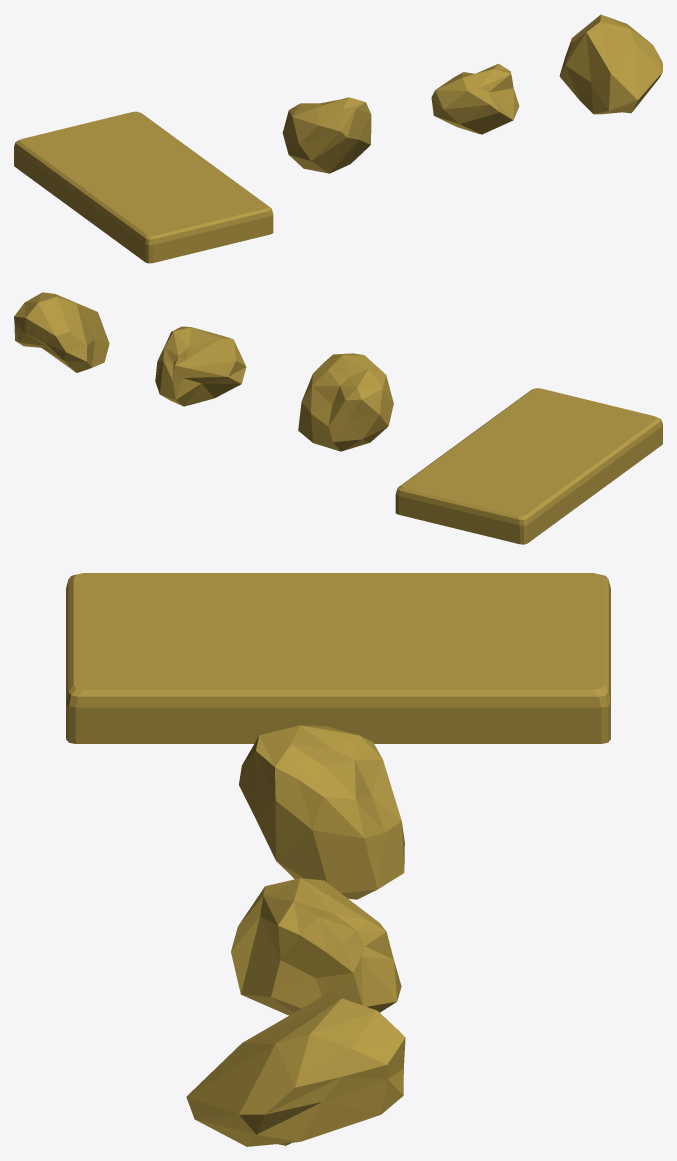
The model's file is Ostrander_Gold_Assests.fbx.
The picture shows the model from 3 angles, top to bottom: view 1: azimuth 30°, elevation 25°; view 2: azimuth 150°, elevation 25°; view 3: azimuth 270°, elevation 25°; orthographic projection. The views are drawn at different scales.
Visible parts, largest first — view 1: Gold bar, Gold_Nugget2, Gold_Nugget3, Gold_Nugget; view 2: Gold bar, Gold_Nugget3, Gold_Nugget, Gold_Nugget2; view 3: Gold bar, Gold_Nugget2, Gold_Nugget3, Gold_Nugget.
Boxes of the visible parts, x1=… form: Gold bar: x1=14, y1=111, x2=273, y2=263; Gold_Nugget2: x1=559, y1=14, x2=662, y2=114; Gold_Nugget3: x1=282, y1=97, x2=371, y2=173; Gold_Nugget: x1=431, y1=63, x2=519, y2=134; Gold bar: x1=395, y1=388, x2=662, y2=544; Gold_Nugget3: x1=298, y1=353, x2=393, y2=451; Gold_Nugget: x1=155, y1=326, x2=246, y2=406; Gold_Nugget2: x1=14, y1=292, x2=109, y2=372; Gold bar: x1=66, y1=573, x2=610, y2=743; Gold_Nugget2: x1=186, y1=991, x2=405, y2=1146; Gold_Nugget3: x1=239, y1=725, x2=404, y2=899; Gold_Nugget: x1=231, y1=878, x2=401, y2=1015.
Size of the model in its own units: 217 by 29.15 by 90.53.
